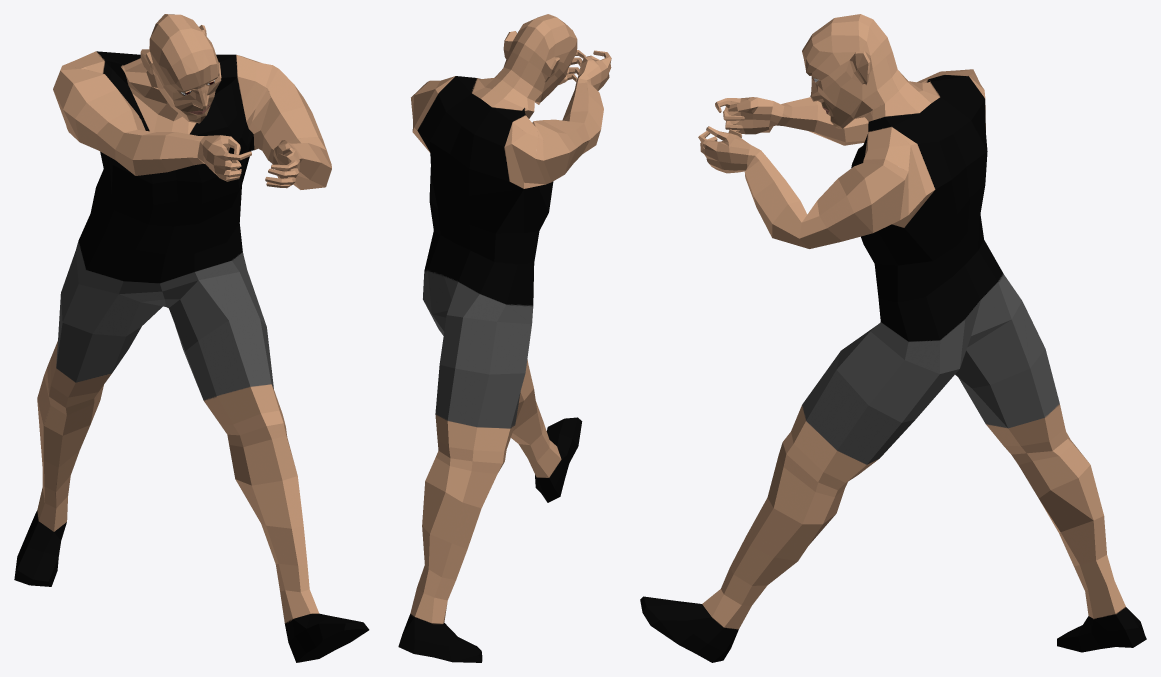
Rendered from PlayerWalk(3).obj.
3 views of the same model, side by side, from view 1: azimuth 30°, elevation 25°; view 2: azimuth 150°, elevation 25°; view 3: azimuth 270°, elevation 25° (orthographic). The views are drawn at different scales.
Visible parts, largest first — view 1: Plane002; view 2: Plane002; view 3: Plane002.
Boxes of the visible parts, x1,y1,x2,y2 form: Plane002: (14, 14, 369, 662); Plane002: (398, 14, 611, 662); Plane002: (640, 14, 1146, 662).
Bounding box in the file's own units: 585 × 1710 × 1224.
